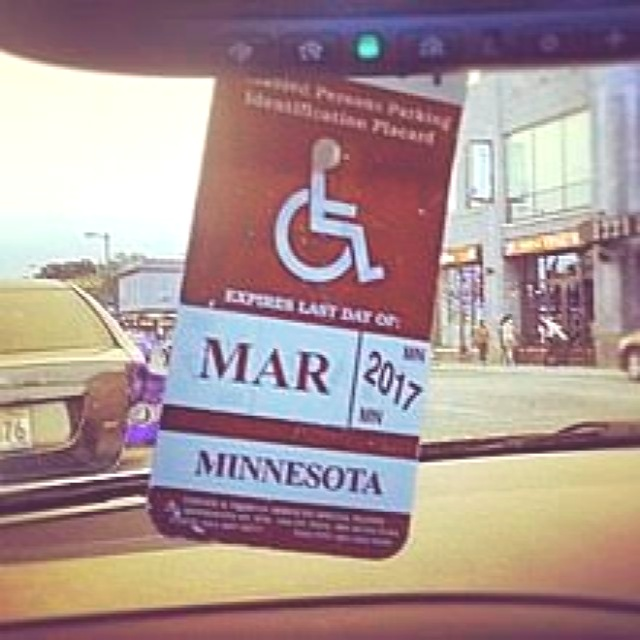ISA: (271, 130, 395, 292)
